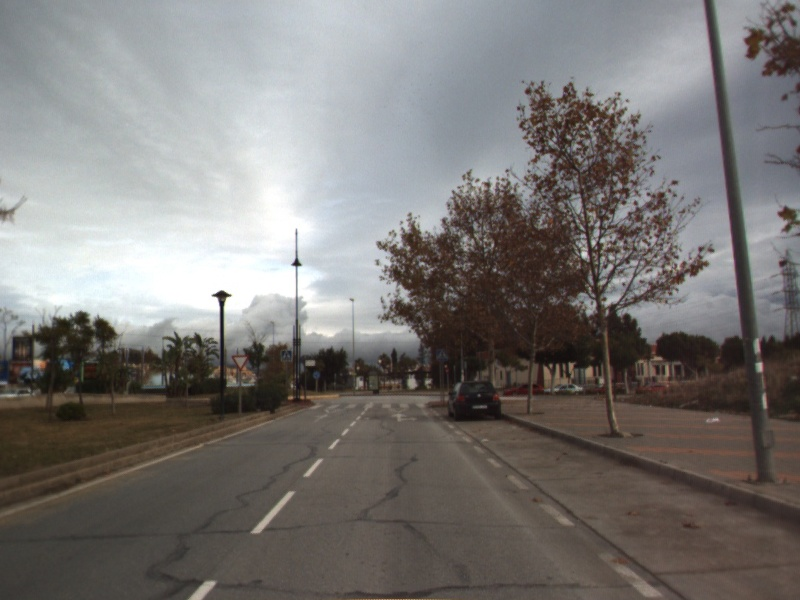STRAIGHT_RIGHT: (390, 411, 419, 424)
